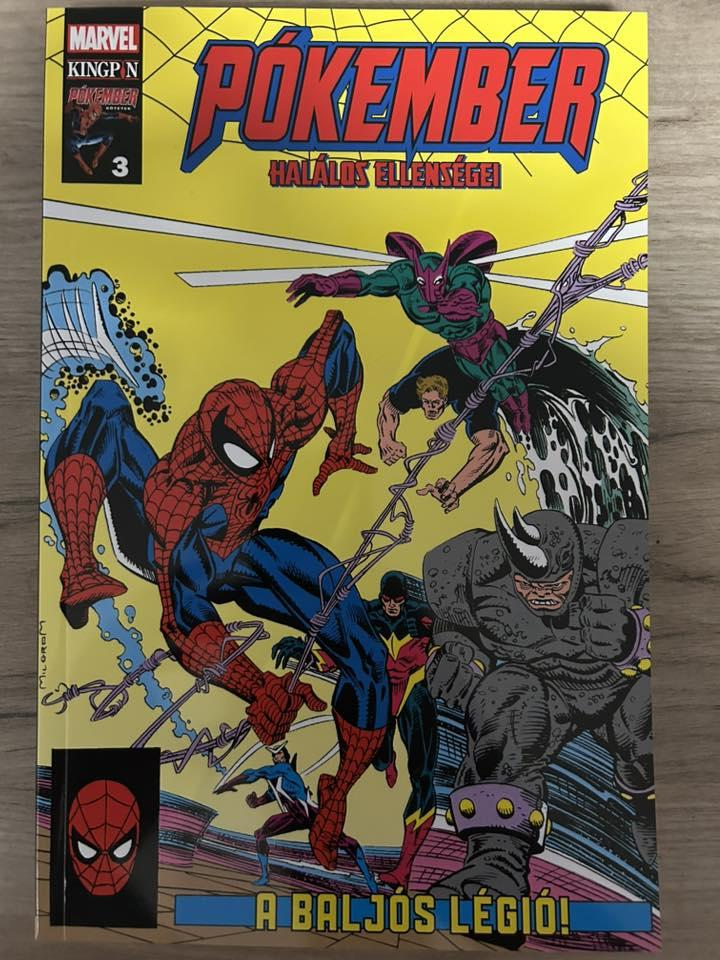comic: (37, 7, 658, 950)
